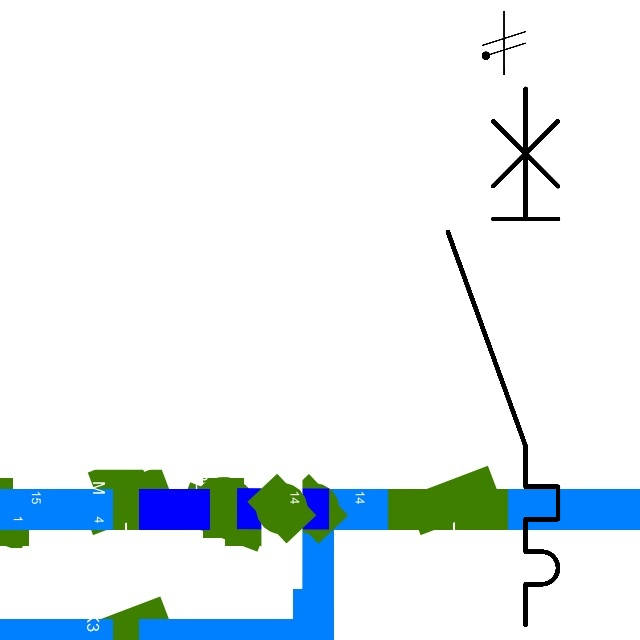interruptor_termomagnetico: (434, 74, 572, 638)
